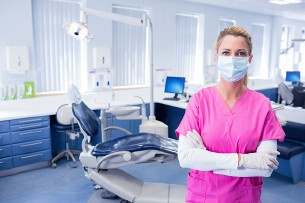Mask: (217, 47, 252, 82)
